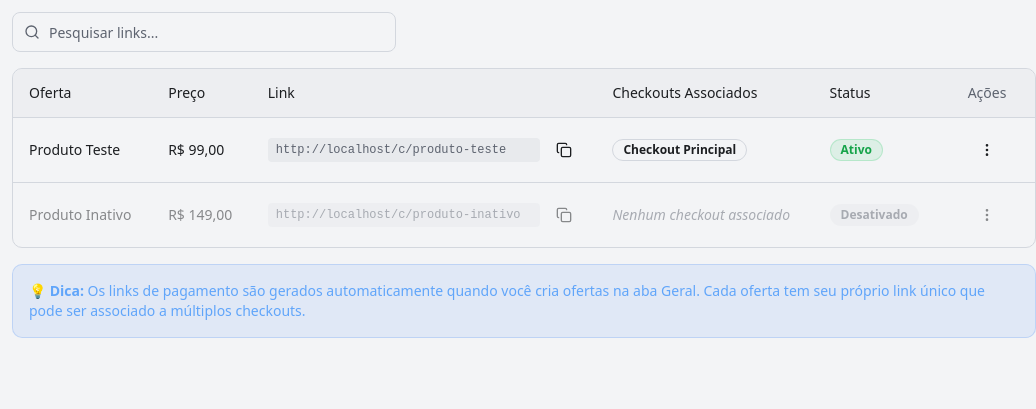
LinksTable › Empty State › shows empty message when search has no results
This screenshot has width=1036, height=409.
Type "INEXISTENTE" into the field with placeholder "Pesquisar links...".
click(204, 32); type("INEXISTENTE")  # box [12,12,396,52]
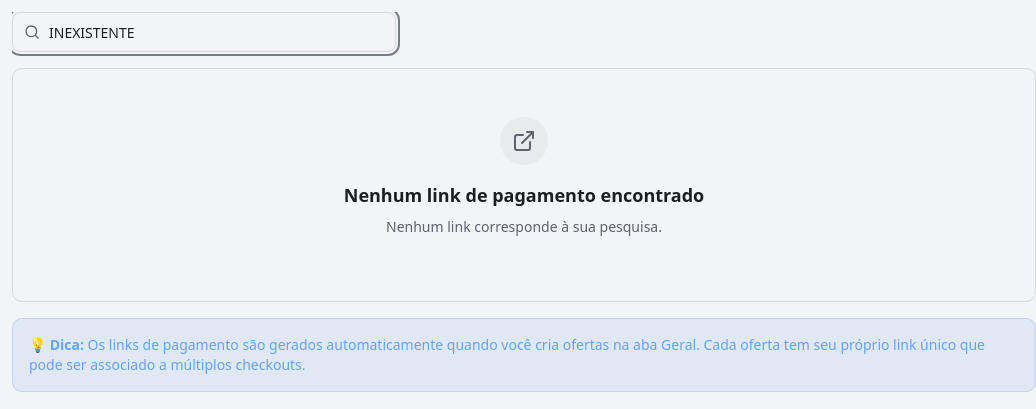
Check: the text "Nenhum link corresponde à sua pesquisa." is shown, box [386,217,662,236]
